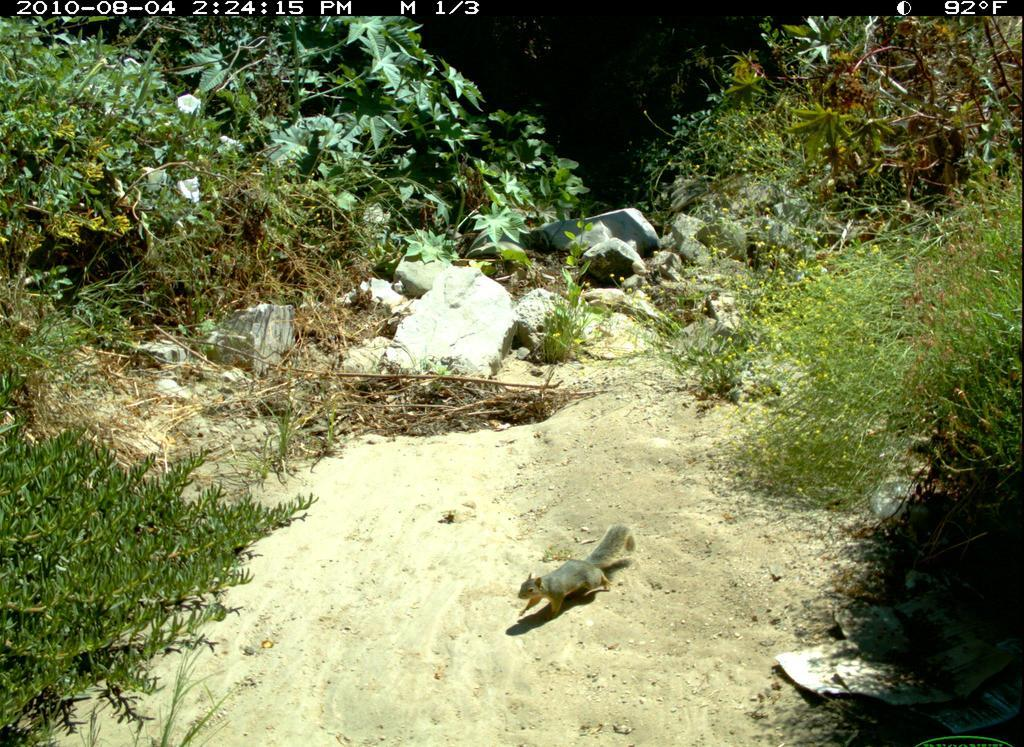squirrel: (511, 521, 646, 638)
